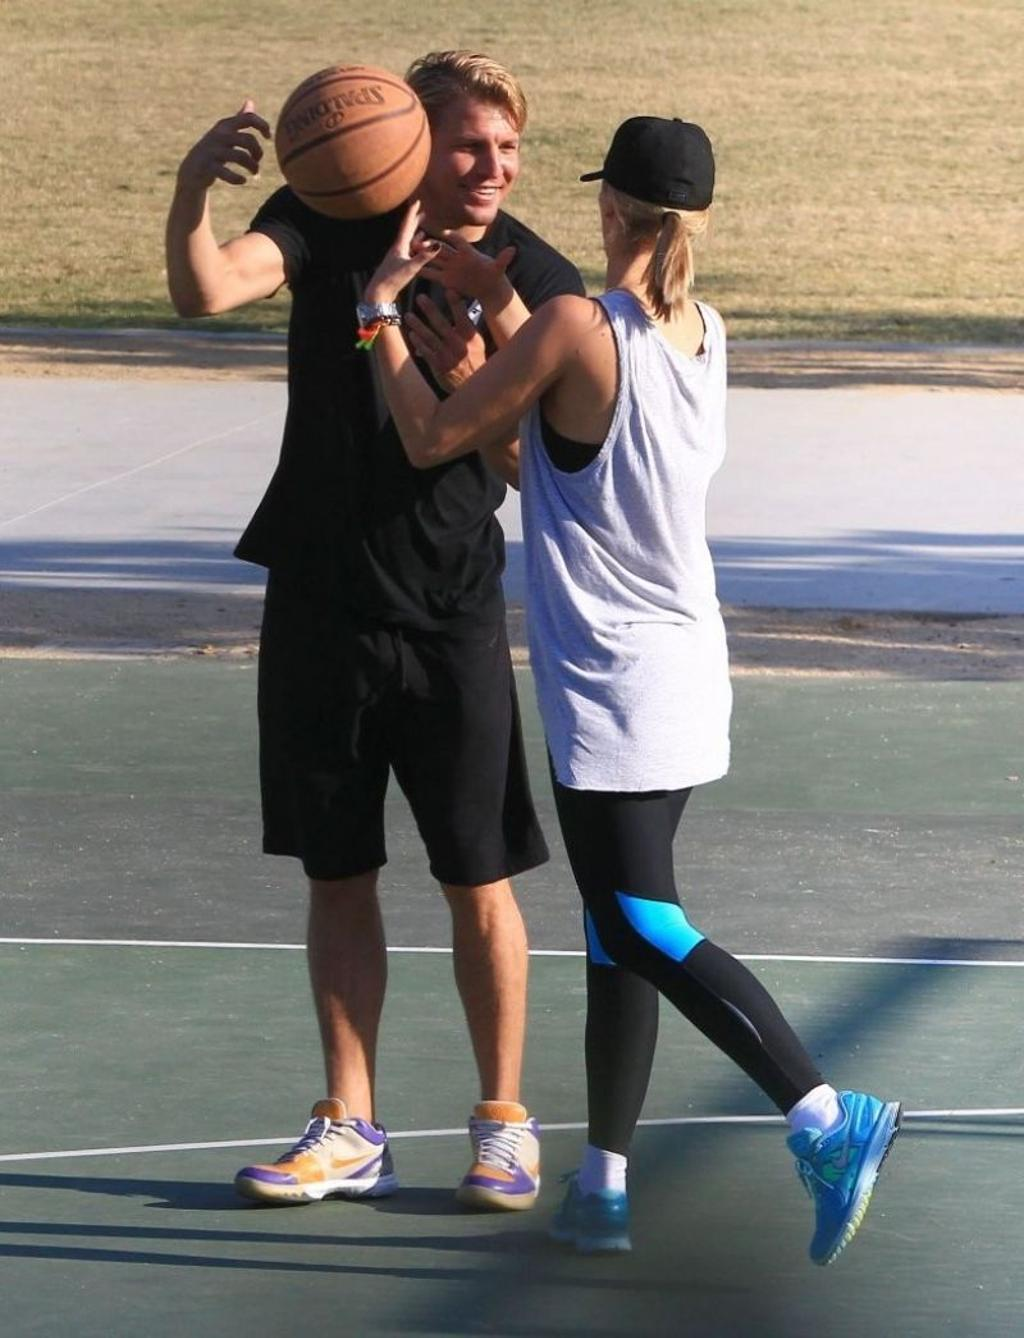face: (424, 90, 521, 231)
